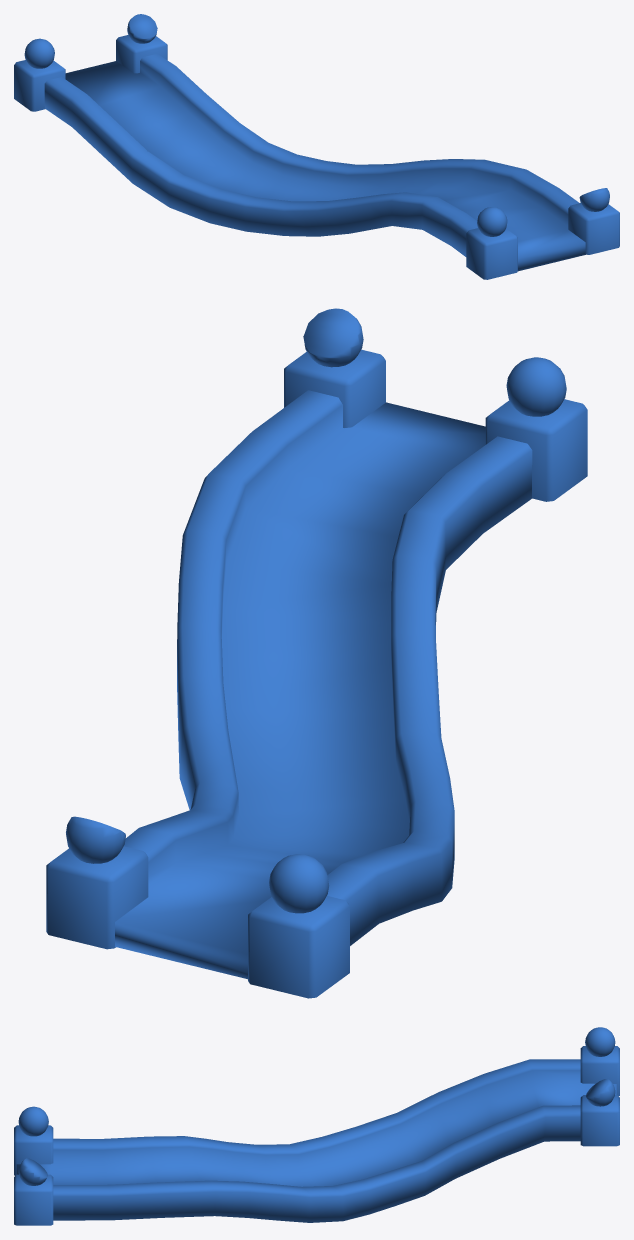
Rendered from bridge_02.fbx.
3 renders of one model, top to bottom at view 1: azimuth 30°, elevation 25°; view 2: azimuth 150°, elevation 25°; view 3: azimuth 270°, elevation 25°, orthographic. The views are drawn at different scales.
Parts seen in each view (by area): view 1: bridge_02; view 2: bridge_02; view 3: bridge_02.
Boxes of the visible parts, box(x1,y1,x2,y2) form: bridge_02: box(14, 14, 619, 279); bridge_02: box(46, 308, 587, 998); bridge_02: box(14, 1027, 619, 1225).
Size of the model in its own units: 3450 by 1142 by 6045.
